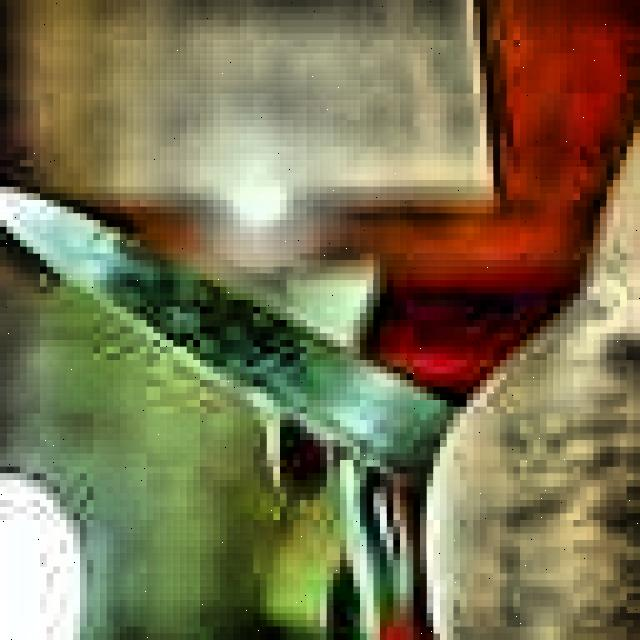knife: (0, 186, 453, 486)
